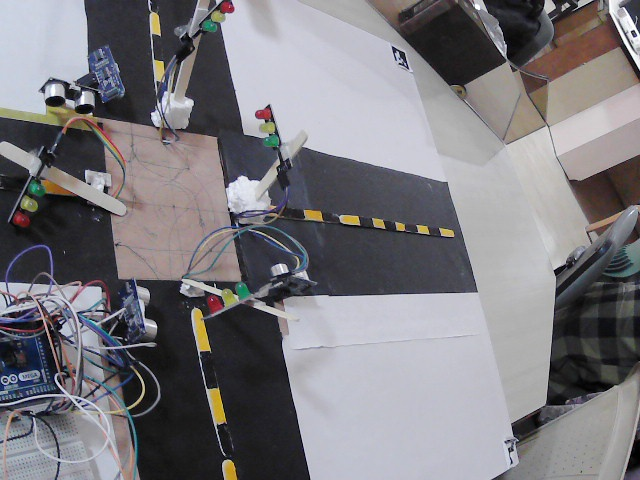aruco_marker: (498, 432, 518, 466), (389, 45, 413, 71)
black_strip: (214, 423, 234, 456), (200, 353, 218, 387), (0, 174, 28, 191), (149, 33, 166, 57), (278, 206, 301, 219), (316, 213, 338, 222), (404, 222, 417, 236), (358, 216, 372, 228), (148, 0, 160, 12), (384, 221, 396, 231), (428, 225, 438, 237)
mixed_lane: (191, 304, 238, 477), (273, 208, 457, 240), (146, 2, 168, 84), (0, 169, 28, 191), (40, 180, 72, 196)
traffic_light: (9, 174, 44, 228), (210, 276, 256, 308), (261, 96, 284, 155)
uno_breadboard: (0, 289, 73, 401), (0, 396, 92, 480), (36, 74, 99, 116), (84, 36, 123, 99), (117, 277, 155, 340), (265, 271, 328, 302)
yellow_strip: (191, 306, 212, 351), (206, 387, 226, 423), (40, 177, 72, 195), (220, 459, 236, 480), (152, 57, 164, 84), (304, 207, 322, 222), (148, 15, 159, 36), (340, 213, 358, 224), (438, 228, 454, 239), (372, 215, 384, 228), (418, 222, 430, 233), (395, 222, 404, 231)
